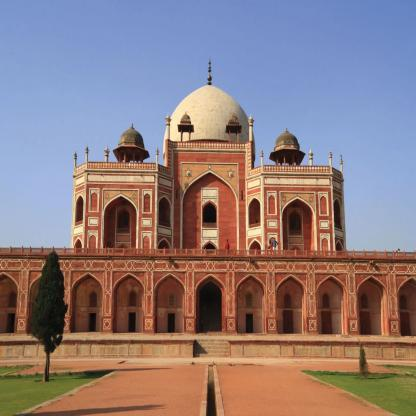Balcony: (0, 246, 416, 261), (74, 161, 172, 178), (247, 165, 343, 182), (165, 139, 254, 150)
Building Outline: (0, 57, 416, 362)
Dont: (30, 251, 68, 383), (358, 341, 370, 378)
Door: (321, 311, 332, 334), (360, 312, 371, 335), (400, 313, 411, 336), (282, 311, 293, 333), (6, 314, 15, 333), (167, 313, 175, 333), (128, 313, 136, 333), (246, 313, 253, 333), (89, 313, 96, 332)
Door Hole: (182, 172, 237, 257), (282, 198, 315, 257), (103, 196, 136, 254), (70, 275, 102, 333), (27, 275, 59, 333), (113, 273, 143, 333), (154, 275, 184, 333), (276, 277, 306, 334), (317, 277, 347, 334), (196, 276, 225, 334), (236, 276, 265, 334), (358, 277, 387, 335), (198, 281, 222, 332), (0, 274, 18, 334), (398, 278, 416, 336), (158, 239, 171, 255), (249, 240, 261, 256), (203, 242, 216, 255), (336, 241, 344, 257), (74, 238, 82, 253)
Facade: (73, 166, 343, 335)
Floor: (73, 180, 343, 228), (71, 232, 346, 257)
Floor Slab: (0, 258, 416, 264), (71, 228, 346, 232), (73, 176, 343, 180)
Ground Floor: (0, 263, 416, 335)
Roof: (163, 57, 256, 160), (112, 122, 150, 161), (269, 127, 306, 163)
Top Floor: (73, 144, 343, 176)
Window: (89, 292, 97, 307), (245, 292, 253, 307), (283, 293, 291, 308), (322, 293, 330, 308), (360, 294, 368, 309), (8, 292, 16, 307), (128, 292, 136, 306), (399, 295, 407, 309), (168, 294, 175, 307), (123, 216, 128, 225), (291, 218, 295, 227)
Window Hole: (248, 198, 261, 226), (159, 197, 171, 224), (203, 202, 216, 223), (117, 210, 130, 229), (75, 195, 84, 222), (289, 212, 301, 231), (334, 199, 342, 227)
